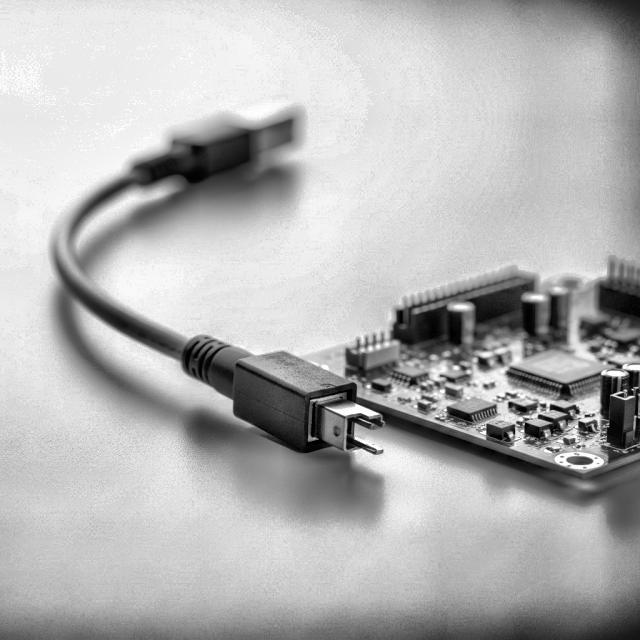Cable: (53, 81, 384, 456)
PCB: (314, 263, 640, 482)
